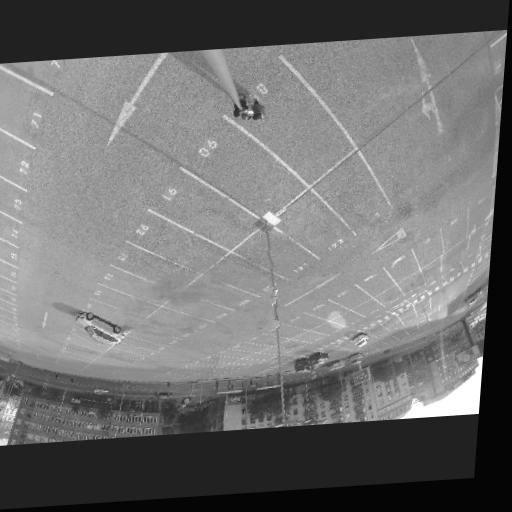busy: (70, 309, 126, 346), (461, 284, 484, 309), (348, 331, 372, 350), (292, 357, 314, 372), (308, 352, 329, 367)
free: (271, 108, 326, 155), (224, 153, 277, 196), (188, 197, 234, 233), (335, 183, 376, 215), (296, 211, 336, 243), (161, 232, 198, 259), (265, 242, 299, 267), (0, 79, 21, 115), (231, 266, 259, 285), (142, 324, 164, 346), (418, 239, 442, 259), (138, 258, 164, 276), (390, 259, 414, 278), (400, 275, 428, 291), (0, 212, 16, 239), (357, 300, 381, 317), (210, 285, 235, 301), (365, 274, 387, 292), (189, 300, 211, 316), (377, 289, 404, 302), (128, 277, 149, 293), (344, 290, 365, 306), (321, 303, 342, 318), (339, 310, 356, 328), (104, 306, 123, 322), (113, 294, 134, 308), (165, 314, 186, 326), (0, 132, 9, 160), (257, 334, 276, 347), (129, 334, 142, 353), (319, 322, 336, 336), (299, 317, 317, 329), (0, 240, 10, 259), (280, 327, 298, 337), (298, 332, 315, 341), (0, 177, 6, 201), (242, 342, 258, 351), (383, 318, 397, 328), (285, 339, 299, 348), (337, 339, 350, 348), (371, 327, 384, 336), (0, 260, 7, 276), (0, 274, 5, 288)
